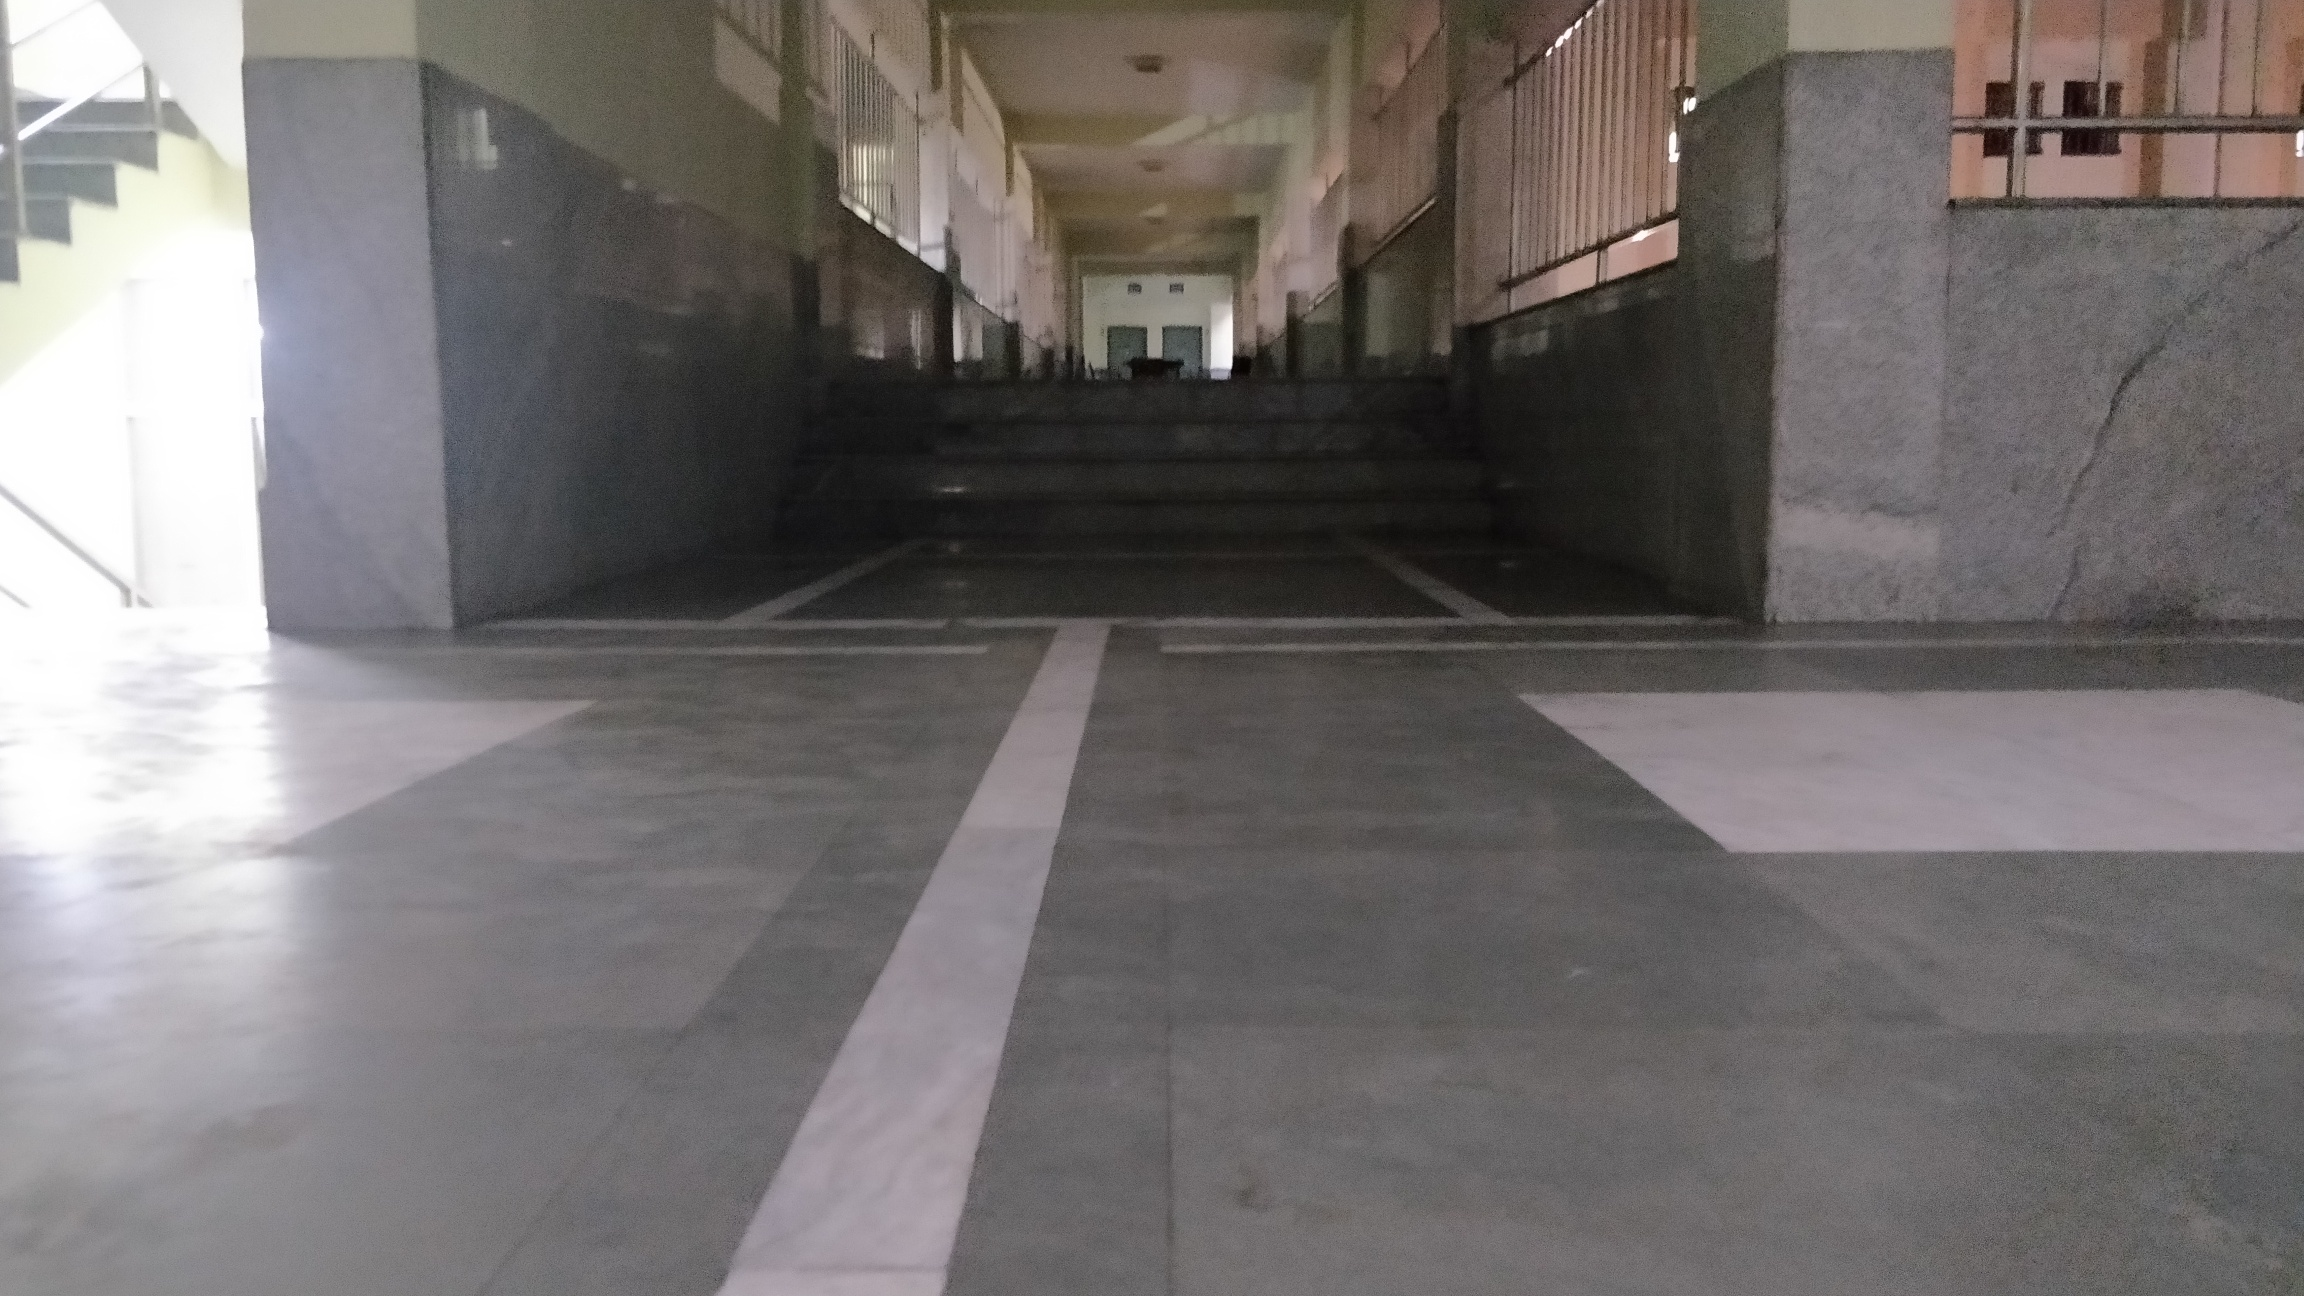stairs_up: (753, 370, 1514, 551)
